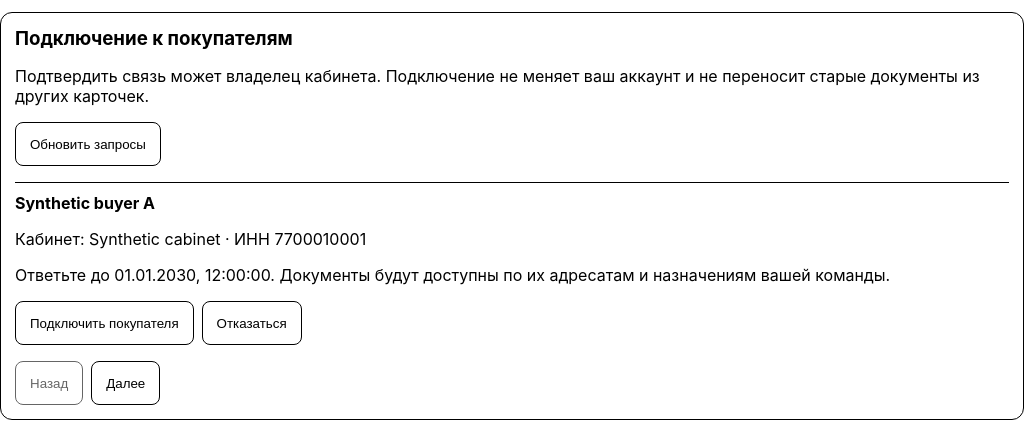
pagination requests the next addressed page and a load failure remains visible
Click the button "Далее". click: (126, 383)
box: x1=91 y1=361 x2=160 y2=405
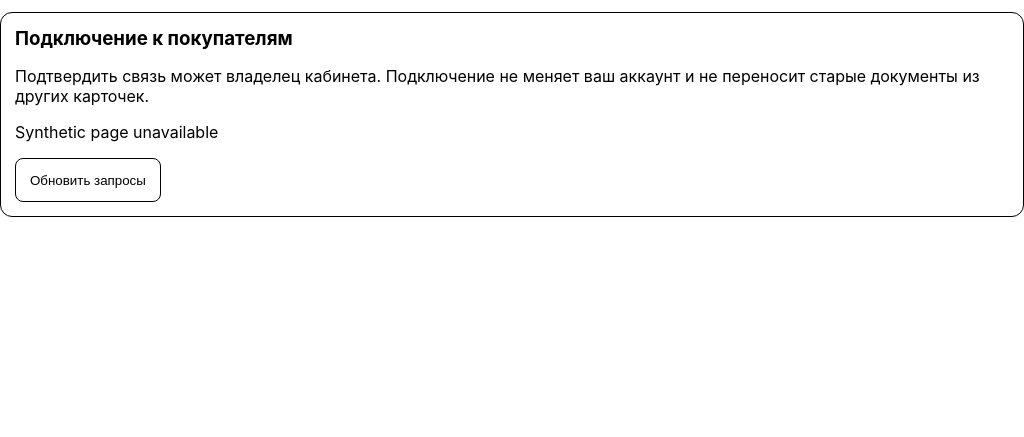
Expected: the message reads "Synthetic page unavailable", x1=15 y1=122 x2=218 y2=142
